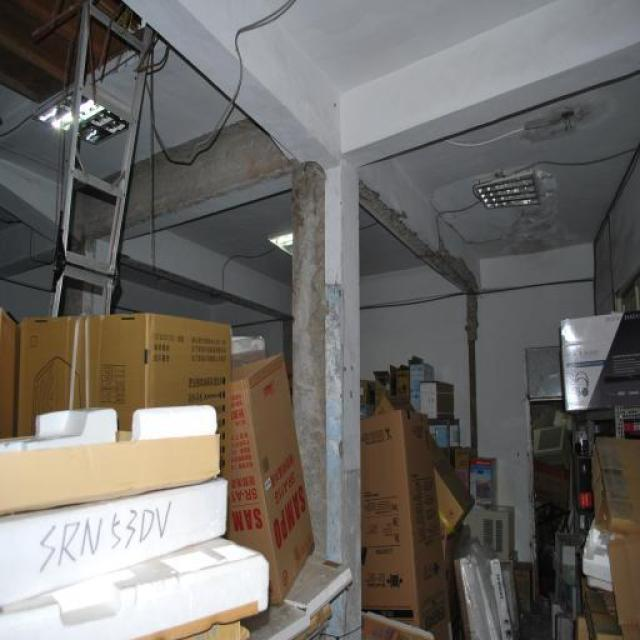D10: (359, 180, 478, 446), (292, 161, 329, 550)
